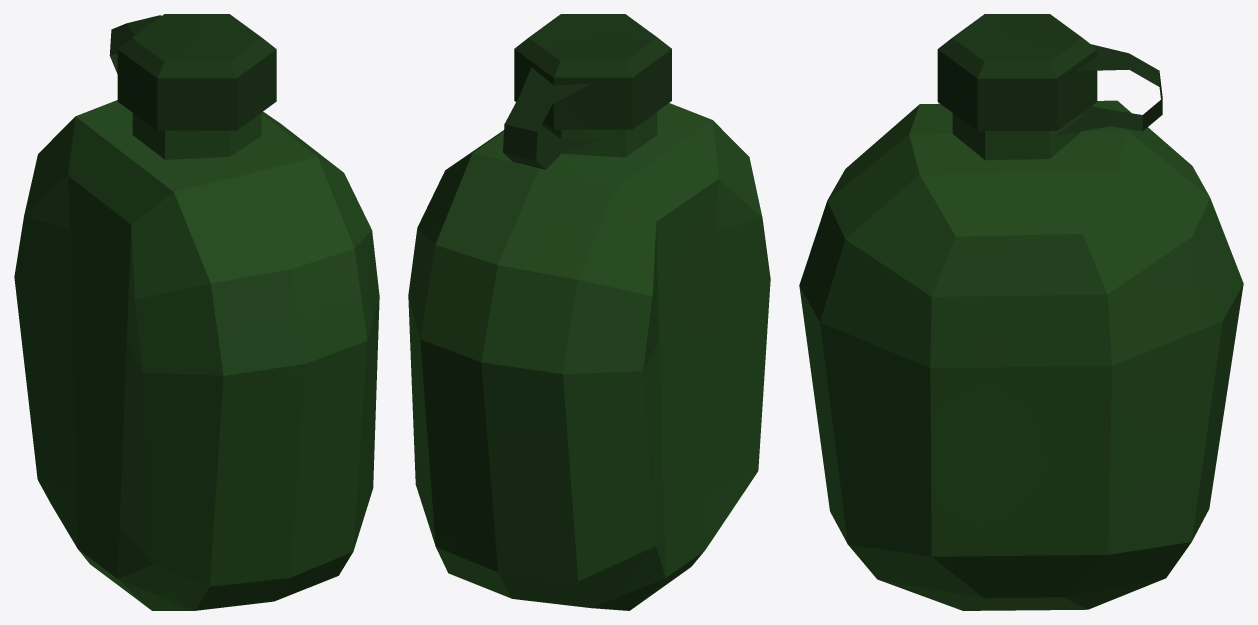
Rendered from Canteen.fbx.
3 views of the same model, side by side, from view 1: azimuth 30°, elevation 25°; view 2: azimuth 150°, elevation 25°; view 3: azimuth 270°, elevation 25° (orthographic).
Parts seen in each view (by area): view 1: Canteen; view 2: Canteen; view 3: Canteen.
Part boxes in pixels (bbox=[...]): Canteen: bbox=[14, 14, 379, 610]; Canteen: bbox=[408, 14, 770, 610]; Canteen: bbox=[799, 14, 1243, 610].
Bounding box in the file's own units: 8.05 × 16.13 × 12.08.
Materials: 1 (1 with a texture image).
